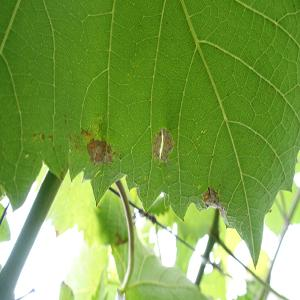Folha: (0, 0, 299, 268)
Fungo: (86, 136, 120, 166), (152, 126, 174, 164), (202, 186, 227, 216), (152, 128, 164, 160), (202, 186, 220, 206), (80, 126, 94, 143), (203, 193, 209, 200)
